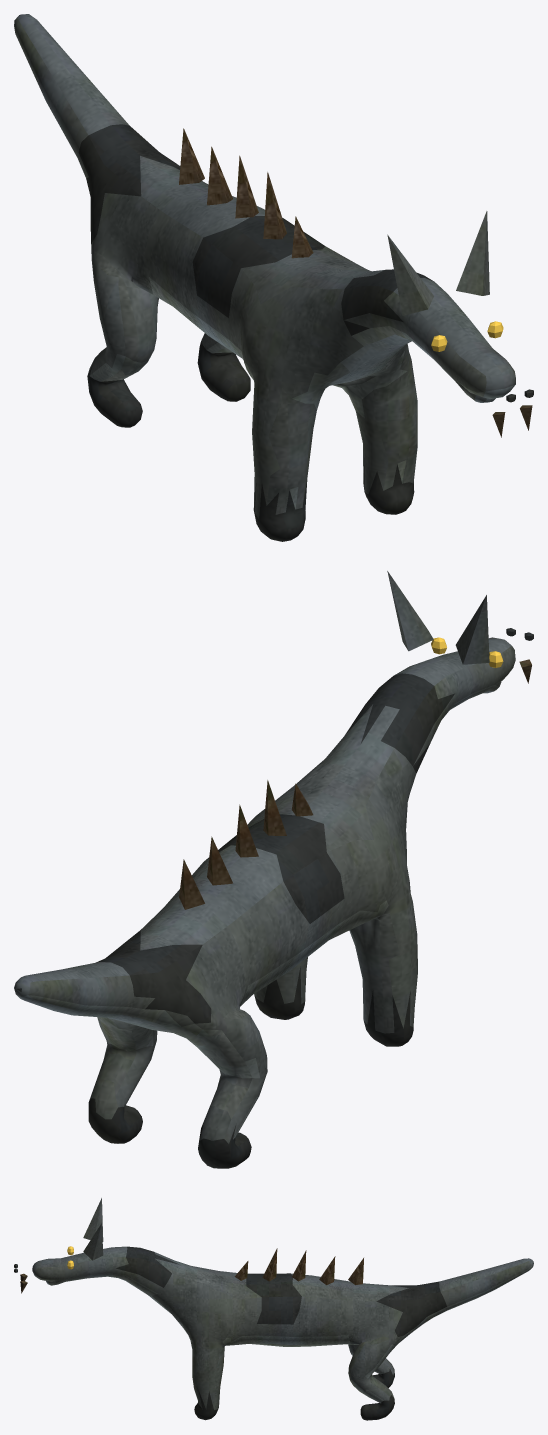
The model's file is mon_quad_01.glb.
The picture shows the model from 3 angles, top to bottom: view 1: azimuth 30°, elevation 25°; view 2: azimuth 150°, elevation 25°; view 3: azimuth 270°, elevation 25°; orthographic projection. The views are drawn at different scales.
Visible parts, largest first — view 1: mon_quad_01; view 2: mon_quad_01; view 3: mon_quad_01.
Part boxes in pixels (<box>): mon_quad_01: <box>14,14,533,541</box>; mon_quad_01: <box>14,571,533,1168</box>; mon_quad_01: <box>14,1198,533,1420</box>.
Size of the model in its own units: 0.3245 by 0.7447 by 1.79.
5 materials, 5 textured.
